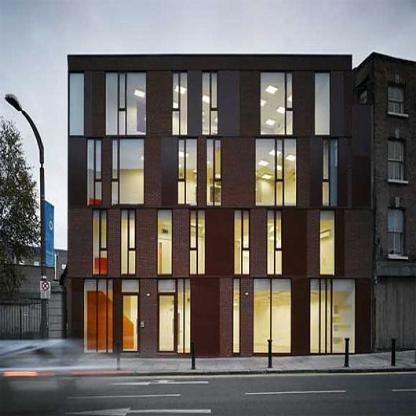Building Outline: (67, 53, 374, 358)
Door: (158, 294, 175, 353), (122, 294, 139, 353)
Facade: (67, 54, 374, 359)
Floor Slab: (69, 137, 374, 139), (69, 276, 373, 278), (69, 206, 373, 208)
Glass Wall: (310, 279, 355, 353), (254, 279, 291, 353), (255, 140, 296, 206), (106, 72, 146, 135), (84, 280, 113, 353), (112, 140, 144, 205), (261, 72, 293, 135), (178, 140, 197, 206), (323, 140, 338, 206), (207, 140, 222, 206), (190, 211, 205, 275), (177, 280, 190, 353), (173, 72, 188, 135), (203, 72, 218, 135), (69, 72, 84, 135), (87, 140, 101, 205), (321, 211, 335, 275), (121, 211, 135, 275), (158, 211, 172, 275), (235, 211, 249, 275), (268, 211, 282, 275), (93, 211, 107, 275), (316, 72, 330, 135), (233, 279, 240, 353), (158, 280, 175, 292), (122, 280, 139, 292)
